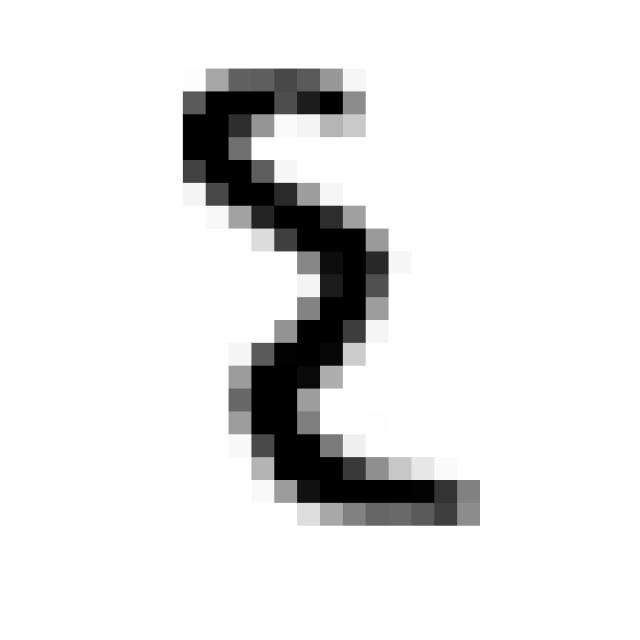4 -four-: (155, 50, 500, 542)
